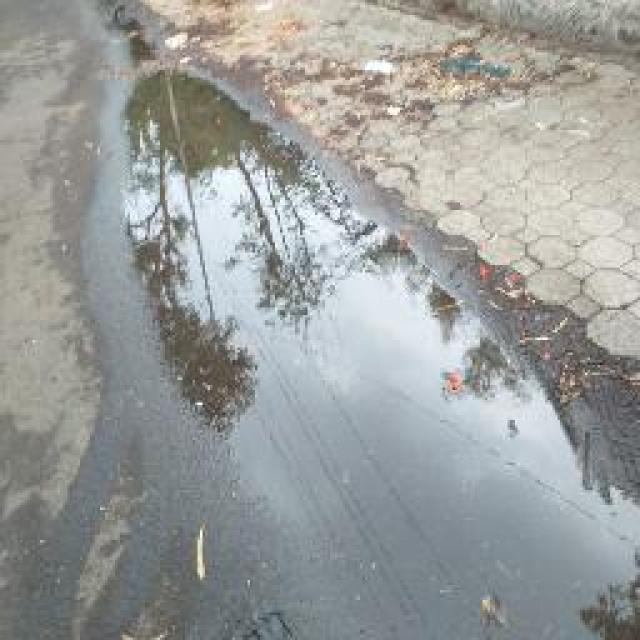puddle: (121, 67, 640, 640)
